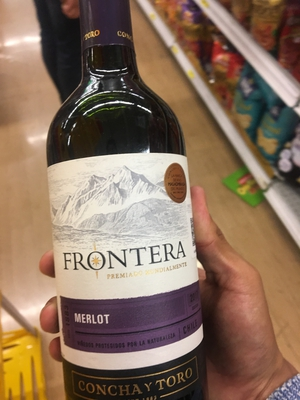frontera merlot: (40, 14, 212, 400)
